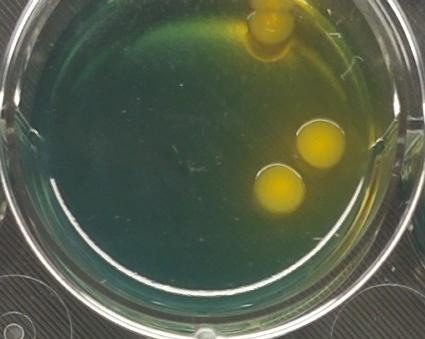vharveyi: (292, 114, 351, 176), (251, 158, 309, 218), (242, 0, 302, 54)
